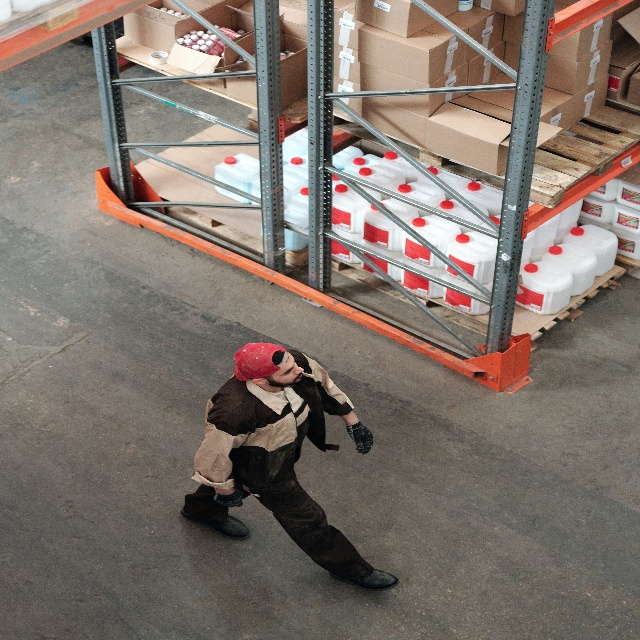Guantes: (344, 417, 374, 455), (213, 488, 243, 509)
